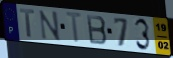3: (133, 18, 154, 52)
7: (113, 17, 130, 49)
B: (86, 14, 109, 47)
N: (38, 9, 62, 42)
T: (65, 11, 85, 45), (19, 9, 37, 40)
